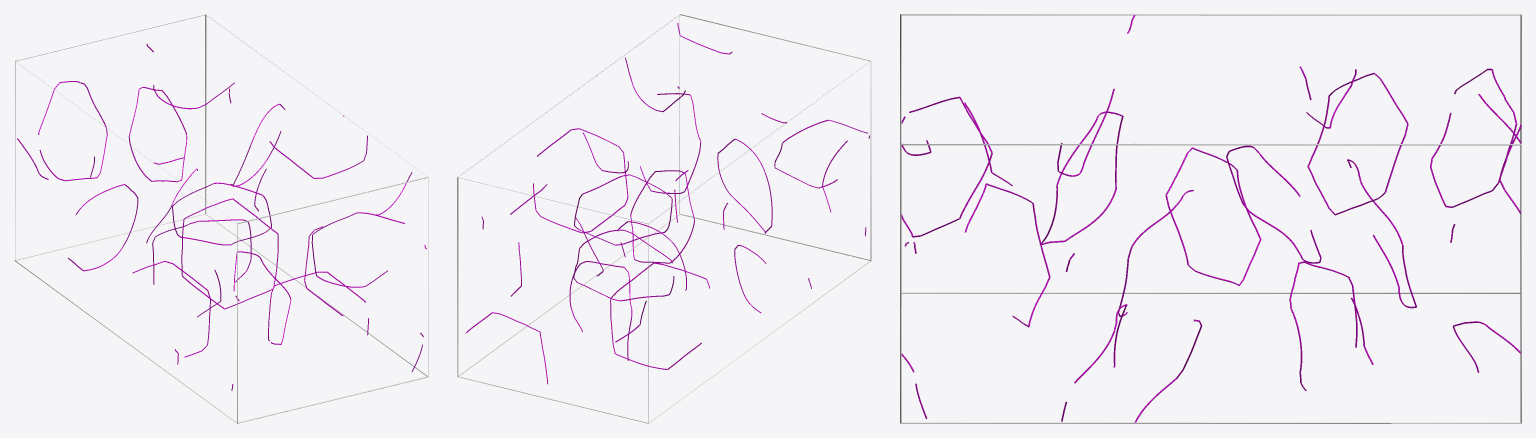
3 renders of one model, left to right at view 1: azimuth 30°, elevation 25°; view 2: azimuth 150°, elevation 25°; view 3: azimuth 270°, elevation 25°, orthographic. The views are drawn at different scales.
Parts seen in each view (by area): view 1: Shape_IndexedLineSet.001, Shape_IndexedLineSet; view 2: Shape_IndexedLineSet.001, Shape_IndexedLineSet; view 3: Shape_IndexedLineSet.001, Shape_IndexedLineSet.
Part boxes in pixels (x1=…): Shape_IndexedLineSet.001: x1=17, y1=43, x2=426, y2=390; Shape_IndexedLineSet: x1=14, y1=14, x2=428, y2=423; Shape_IndexedLineSet.001: x1=466, y1=23, x2=869, y2=384; Shape_IndexedLineSet: x1=457, y1=14, x2=871, y2=423; Shape_IndexedLineSet.001: x1=901, y1=15, x2=1521, y2=422; Shape_IndexedLineSet: x1=900, y1=14, x2=1521, y2=423.
Bounding box in the file's own units: 233 × 233 × 469.
